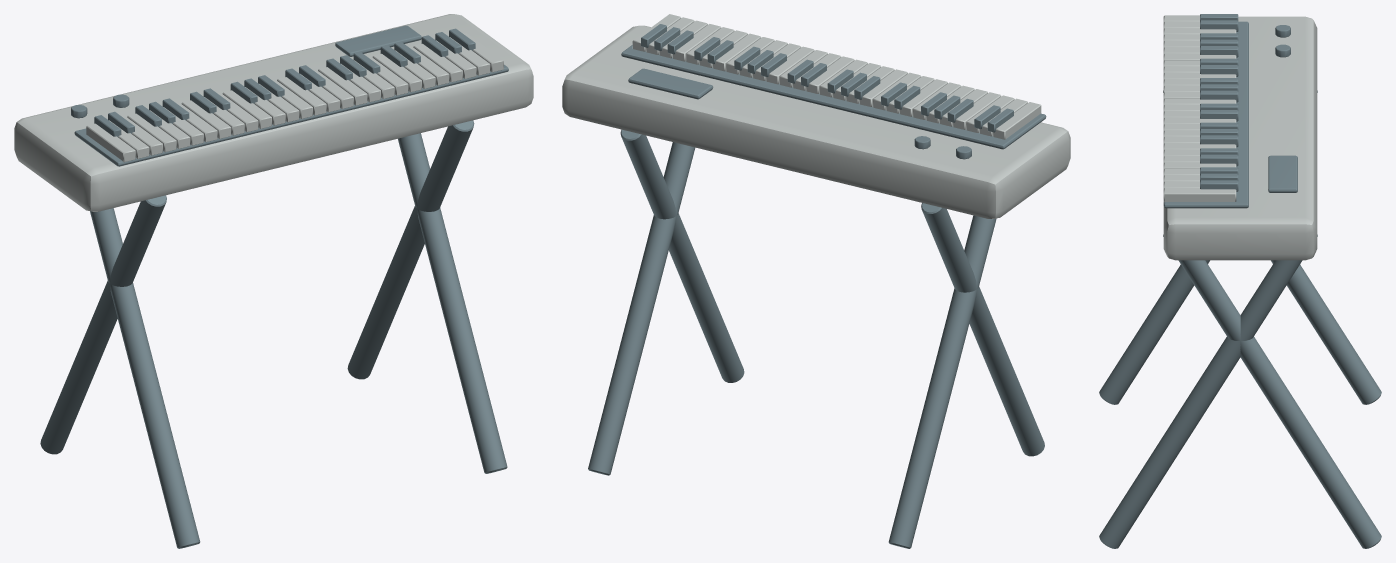
The model's file is keyboard-stand.glb.
3 renders of one model, left to right at view 1: azimuth 30°, elevation 25°; view 2: azimuth 150°, elevation 25°; view 3: azimuth 270°, elevation 25°, orthographic. The views are drawn at different scales.
Visible parts, largest first — view 1: keyboard_case, cross_leg.001, cross_leg.003, cross_leg, cross_leg.002, key_recess, display, white_key, white_key.007; view 2: keyboard_case, cross_leg, cross_leg.002, cross_leg.001, cross_leg.003, key_recess, display, white_key; view 3: keyboard_case, cross_leg.002, cross_leg.003, cross_leg, cross_leg.001, key_recess, display, white_key.027, white_key.013, white_key.023, white_key.002, white_key.020 (+11 smaller).
Boxes of the visible parts, bbox=[...] form: keyboard_case: bbox=[14, 14, 533, 211]; cross_leg.001: bbox=[90, 208, 200, 548]; cross_leg.003: bbox=[398, 133, 507, 473]; cross_leg: bbox=[40, 195, 166, 454]; cross_leg.002: bbox=[347, 120, 474, 379]; key_recess: bbox=[74, 64, 508, 166]; display: bbox=[335, 25, 421, 56]; white_key: bbox=[86, 123, 135, 162]; white_key.007: bbox=[181, 100, 231, 138]; keyboard_case: bbox=[562, 25, 1070, 218]; cross_leg: bbox=[888, 215, 996, 548]; cross_leg.002: bbox=[588, 142, 695, 475]; cross_leg.001: bbox=[921, 203, 1044, 456]; cross_leg.003: bbox=[620, 129, 744, 382]; key_recess: bbox=[621, 45, 1046, 149]; display: bbox=[628, 68, 713, 99]; white_key: bbox=[993, 102, 1041, 139]; keyboard_case: bbox=[1163, 16, 1317, 260]; cross_leg.002: bbox=[1163, 234, 1381, 548]; cross_leg.003: bbox=[1099, 234, 1317, 548]; cross_leg: bbox=[1163, 90, 1381, 404]; cross_leg.001: bbox=[1099, 90, 1317, 404]; key_recess: bbox=[1163, 21, 1248, 208]; display: bbox=[1268, 155, 1297, 192]; white_key.027: bbox=[1163, 188, 1236, 202]; white_key.013: bbox=[1163, 98, 1236, 105]; white_key.023: bbox=[1163, 162, 1236, 169]; white_key.002: bbox=[1163, 28, 1236, 34]; white_key.020: bbox=[1163, 143, 1236, 149].
Size of the model in its own units: 1.17 by 0.9755 by 0.6637.
